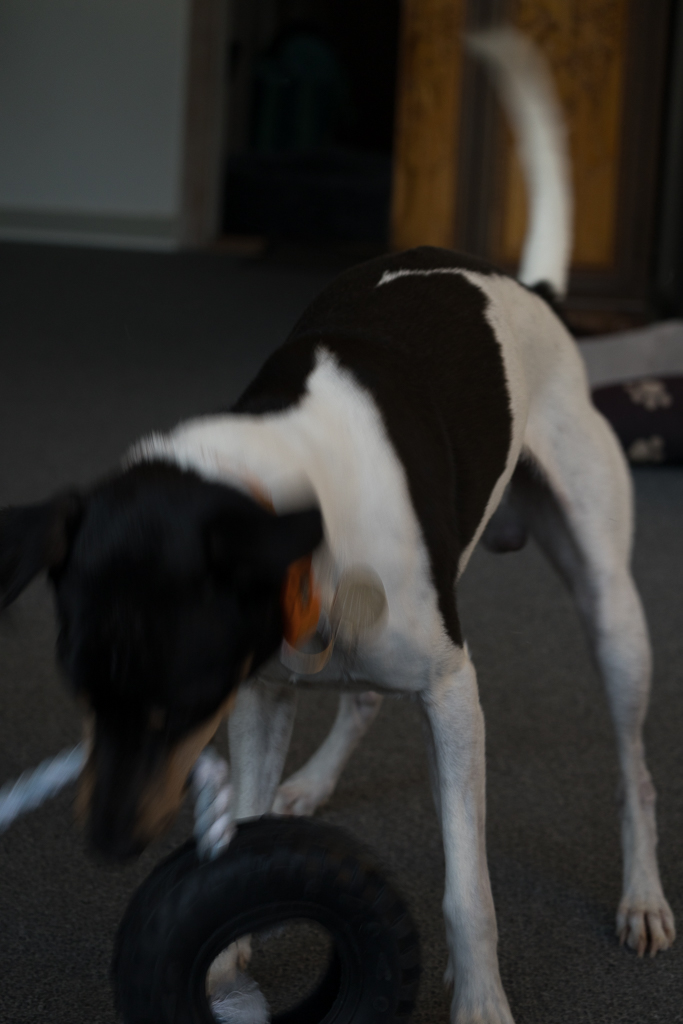Dog: (0, 16, 683, 1024)
